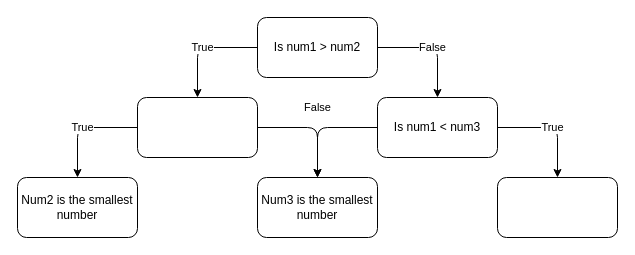
This 635x255 diagram has some shape labels left out. Here are the shapes that lost their labels. From the top down, the centre of each, then its label:
At point 197,127: "Is num2 < num3".
At point 557,207: "Num1 is the smallest number".
